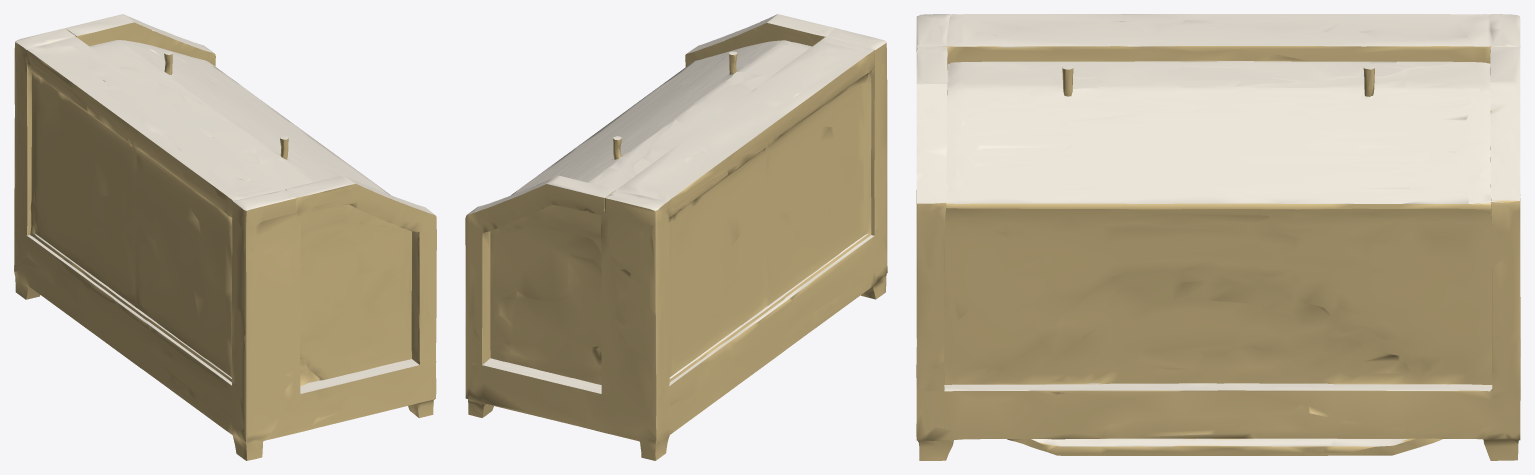
Rendered from Convenience_사물_shelf_hotbar.glb.
The picture shows the model from 3 angles, left to right: view 1: azimuth 30°, elevation 25°; view 2: azimuth 150°, elevation 25°; view 3: azimuth 270°, elevation 25°; orthographic projection. The views are drawn at different scales.
Visible parts, largest first — view 1: world_1; view 2: world_1; view 3: world_1.
Boxes of the visible parts, x1=… form: world_1: x1=14, y1=14, x2=436, y2=460; world_1: x1=465, y1=14, x2=887, y2=460; world_1: x1=916, y1=14, x2=1520, y2=460.
Size of the model in its own units: 0.4783 by 0.6176 by 1.
Materials: 1 (1 with a texture image).
